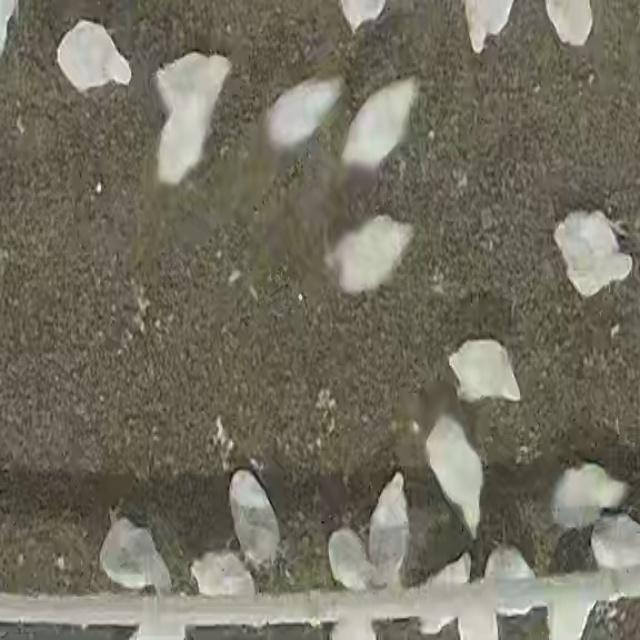chicken: (153, 53, 231, 184), (424, 410, 484, 541), (340, 77, 419, 173), (324, 215, 417, 294), (552, 208, 633, 298), (264, 74, 344, 154), (99, 510, 170, 592), (56, 20, 133, 93), (228, 468, 282, 572), (550, 462, 626, 532), (446, 337, 523, 406), (368, 474, 410, 587), (191, 550, 255, 622), (417, 550, 470, 634), (595, 512, 640, 599), (329, 528, 375, 608), (485, 544, 534, 619), (462, 2, 519, 54), (544, 1, 595, 48)
